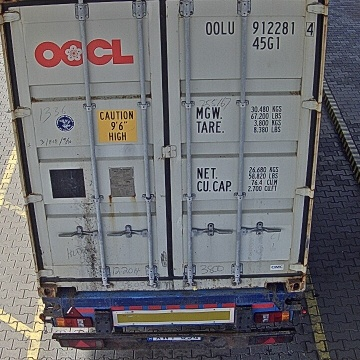serial_id: (206, 21, 315, 34)
